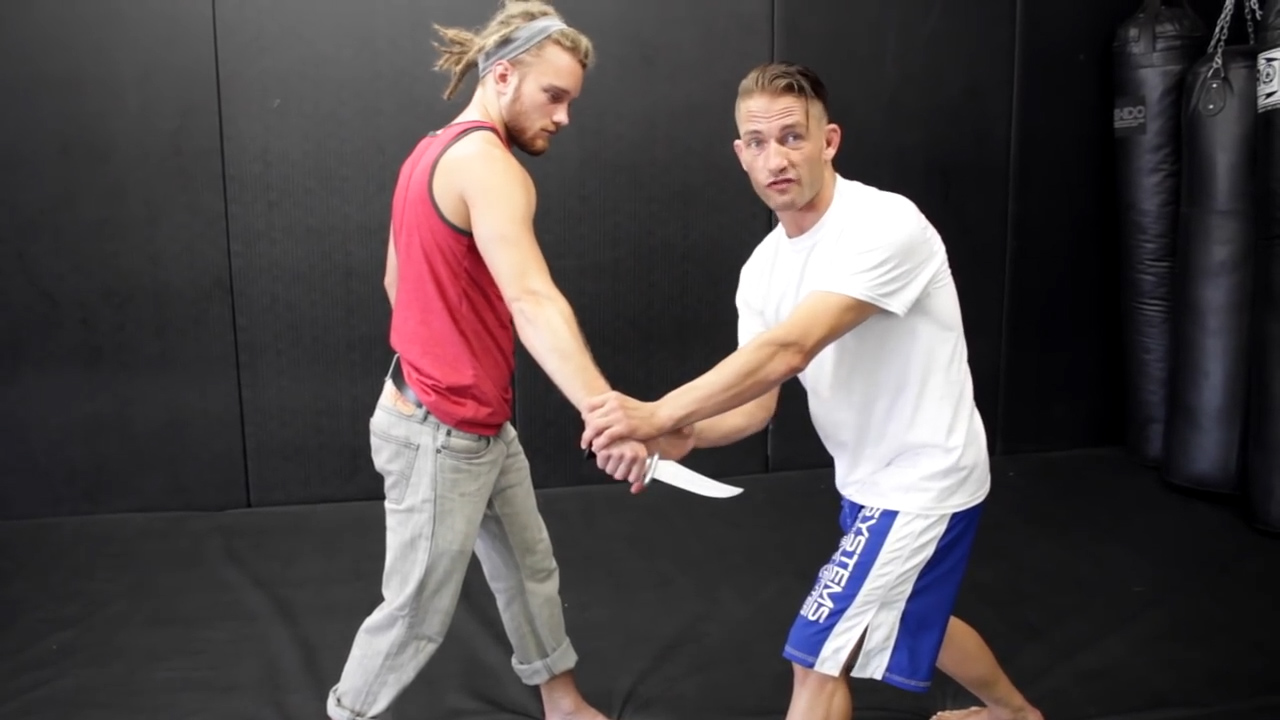knife: (578, 445, 756, 510)
